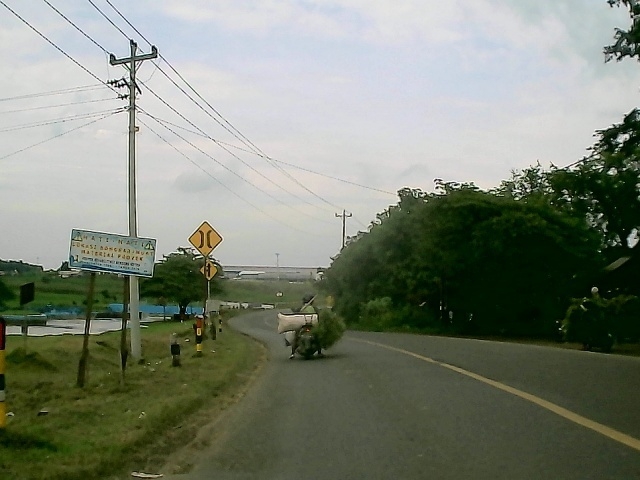Jembatan: (186, 219, 225, 256)
